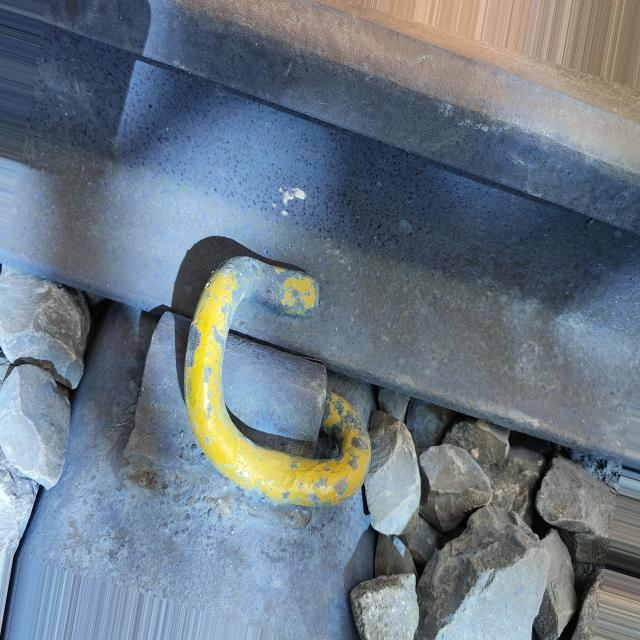Good Fasteners: (109, 233, 381, 541)
